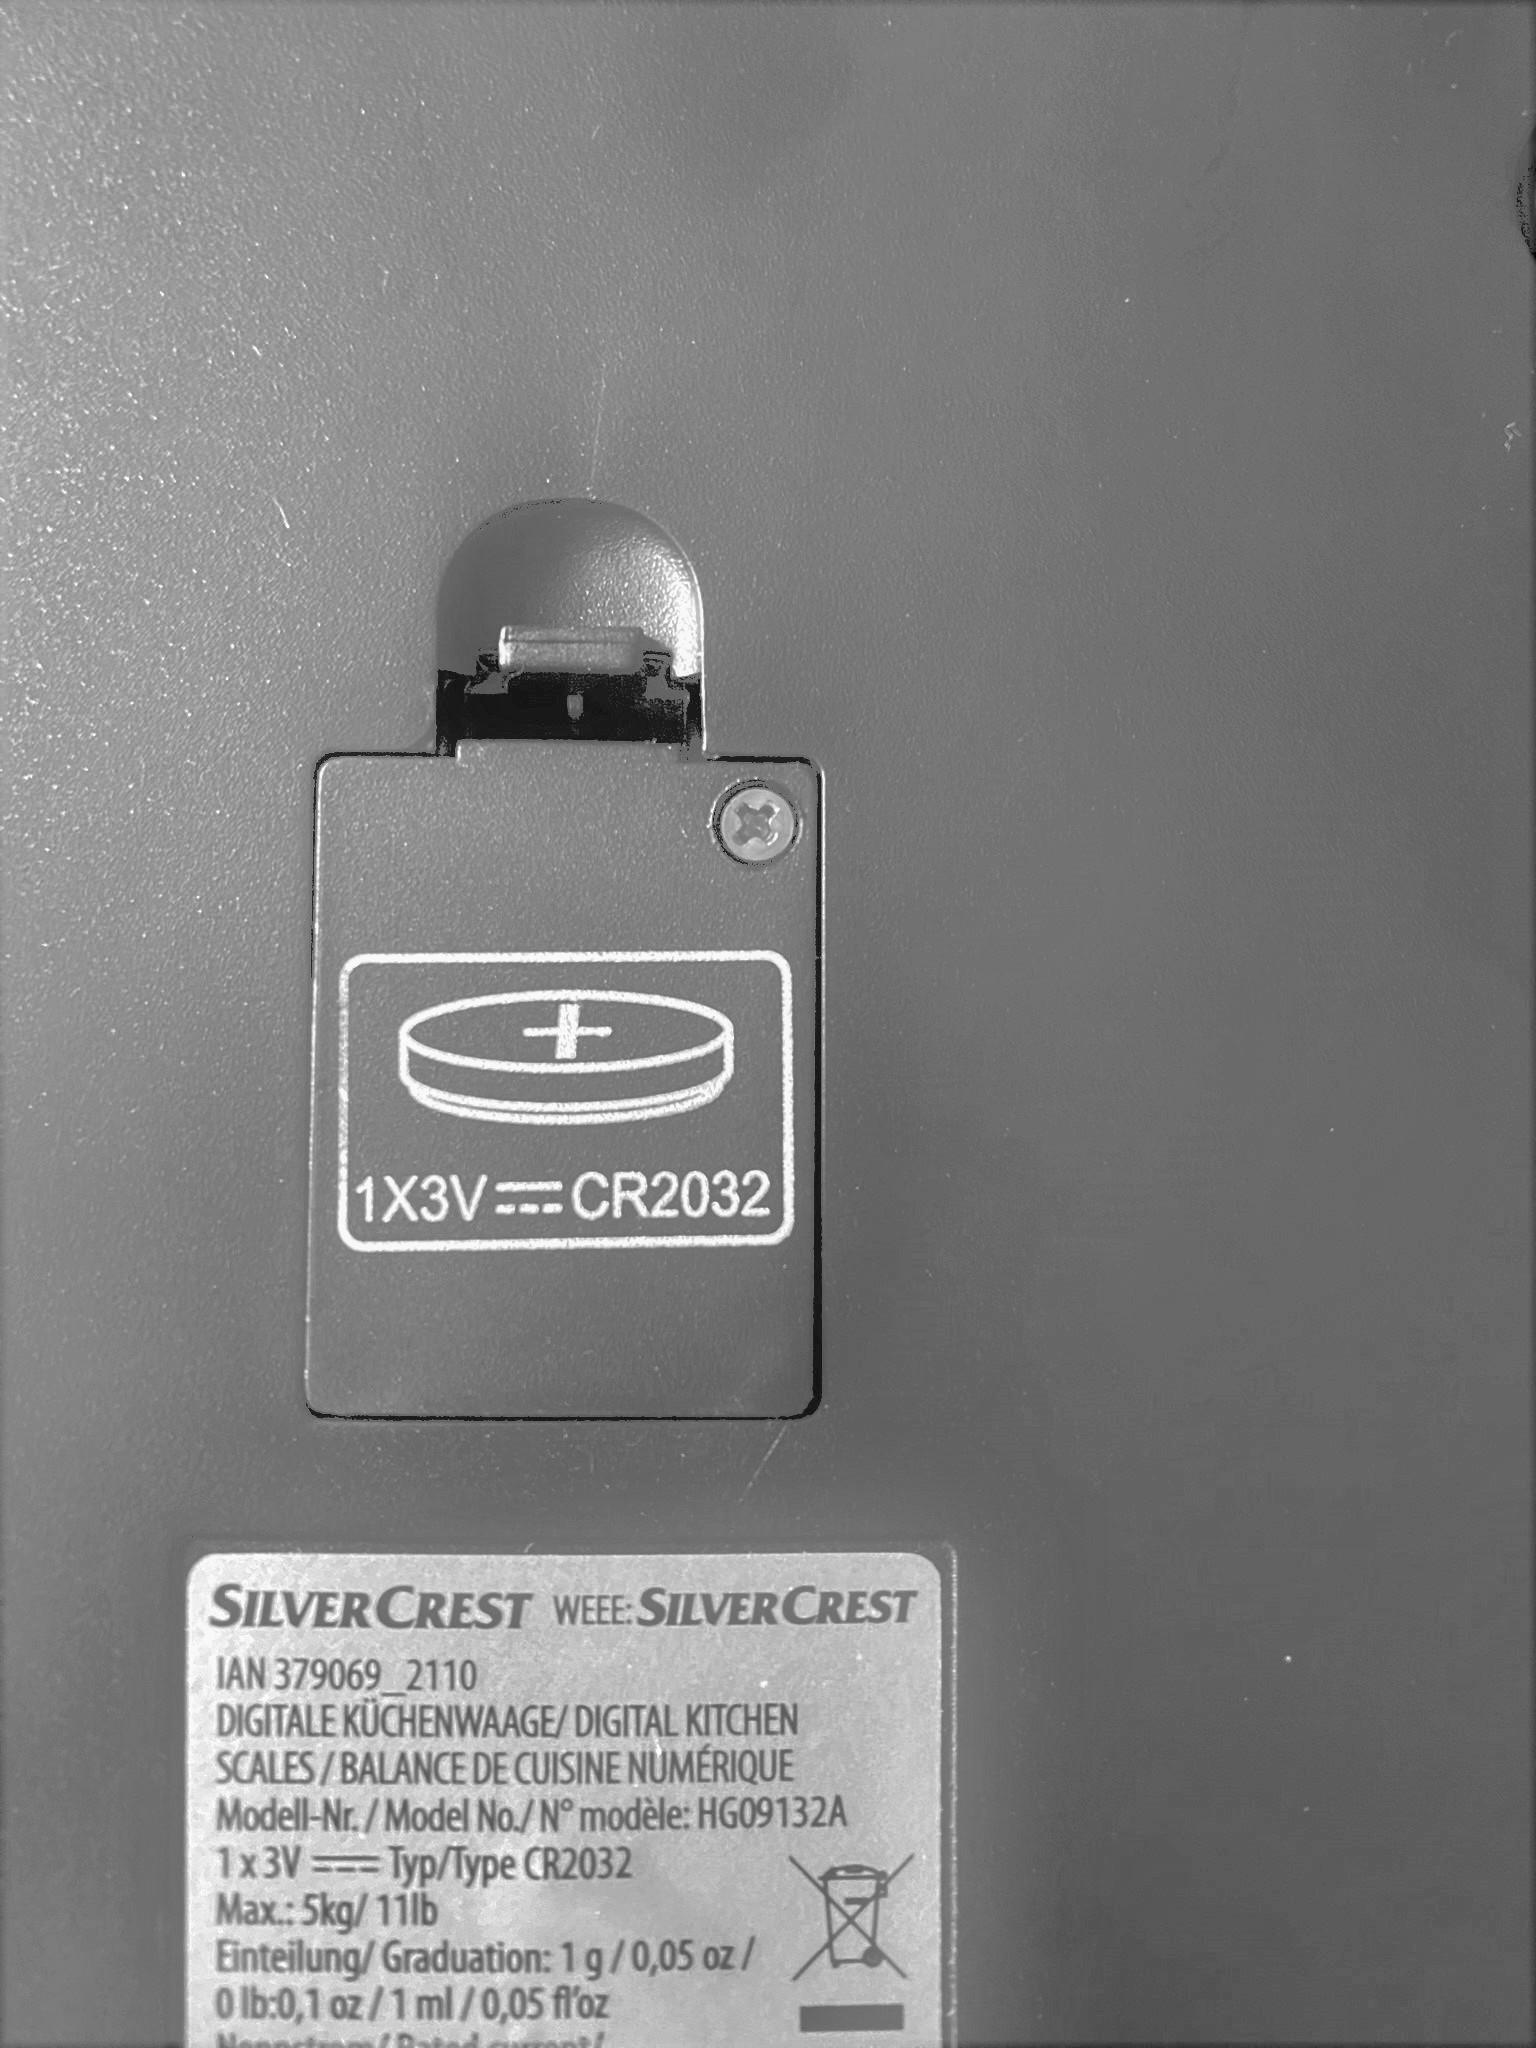PH: (716, 784, 800, 866)
